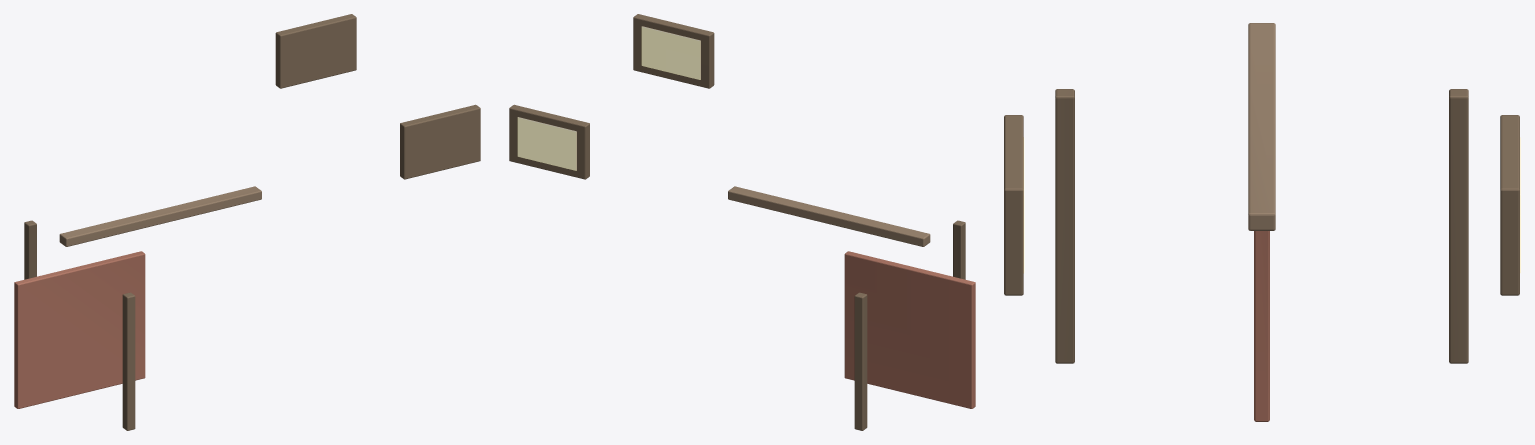
The model's file is barn_l1.glb.
3 views of the same model, side by side, from view 1: azimuth 30°, elevation 25°; view 2: azimuth 150°, elevation 25°; view 3: azimuth 270°, elevation 25° (orthographic). The views are drawn at different scales.
Parts seen in each view (by area): view 1: loft_frame; view 2: loft_frame; view 3: loft_frame.
Boxes of the visible parts, box(x1,y1,x2,y2) form: loft_frame: box(14, 14, 480, 430); loft_frame: box(509, 14, 975, 430); loft_frame: box(1004, 23, 1520, 421).
Size of the model in its own units: 4.7 by 2.8 by 2.63.
